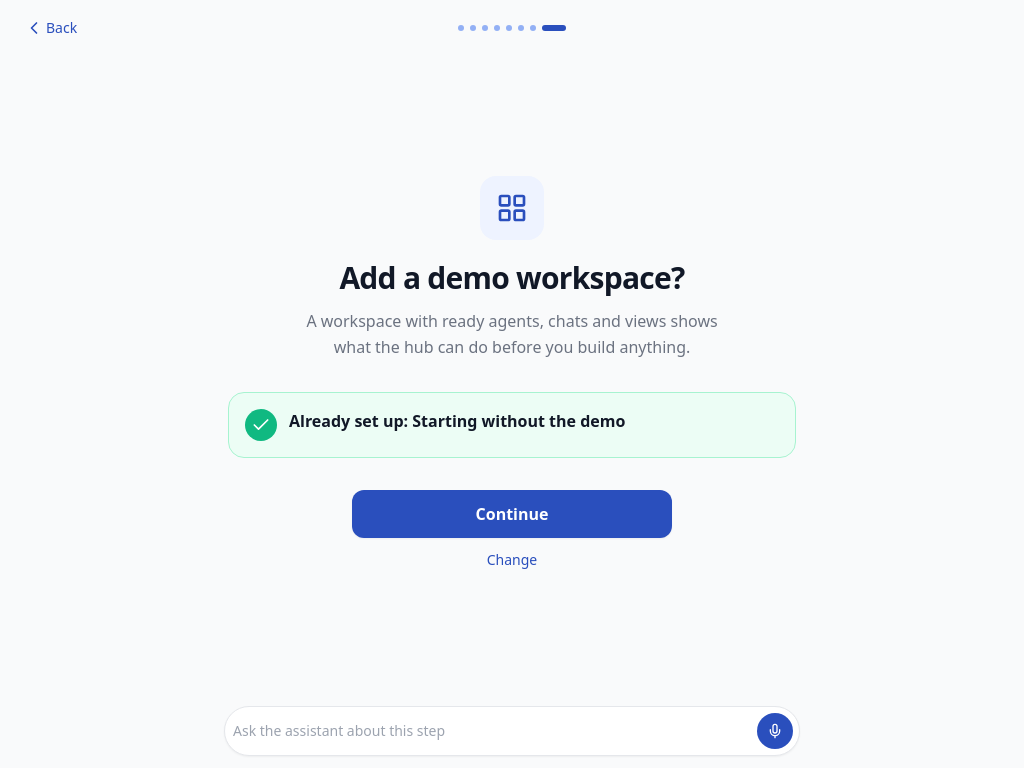
Test case: FirstRun › screens already set up › shows a demo decided off, and Change offers the choice
expect the element with test id "first-run-demo-configured" shows "Starting without the demo": met, box [289,410,625,432]
Click the button with test id "first-run-change".
click(512, 560)  # box [487,550,537,570]
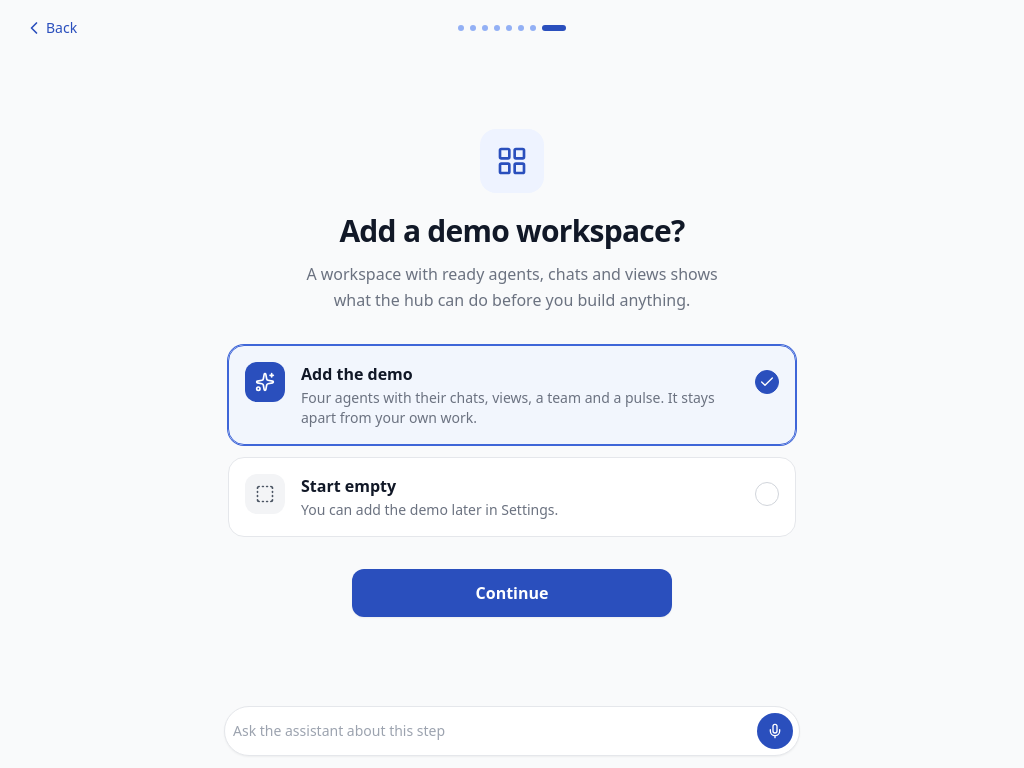
expect the button with test id "first-run-demo-add" is shown: met, box [228,345,796,445]
